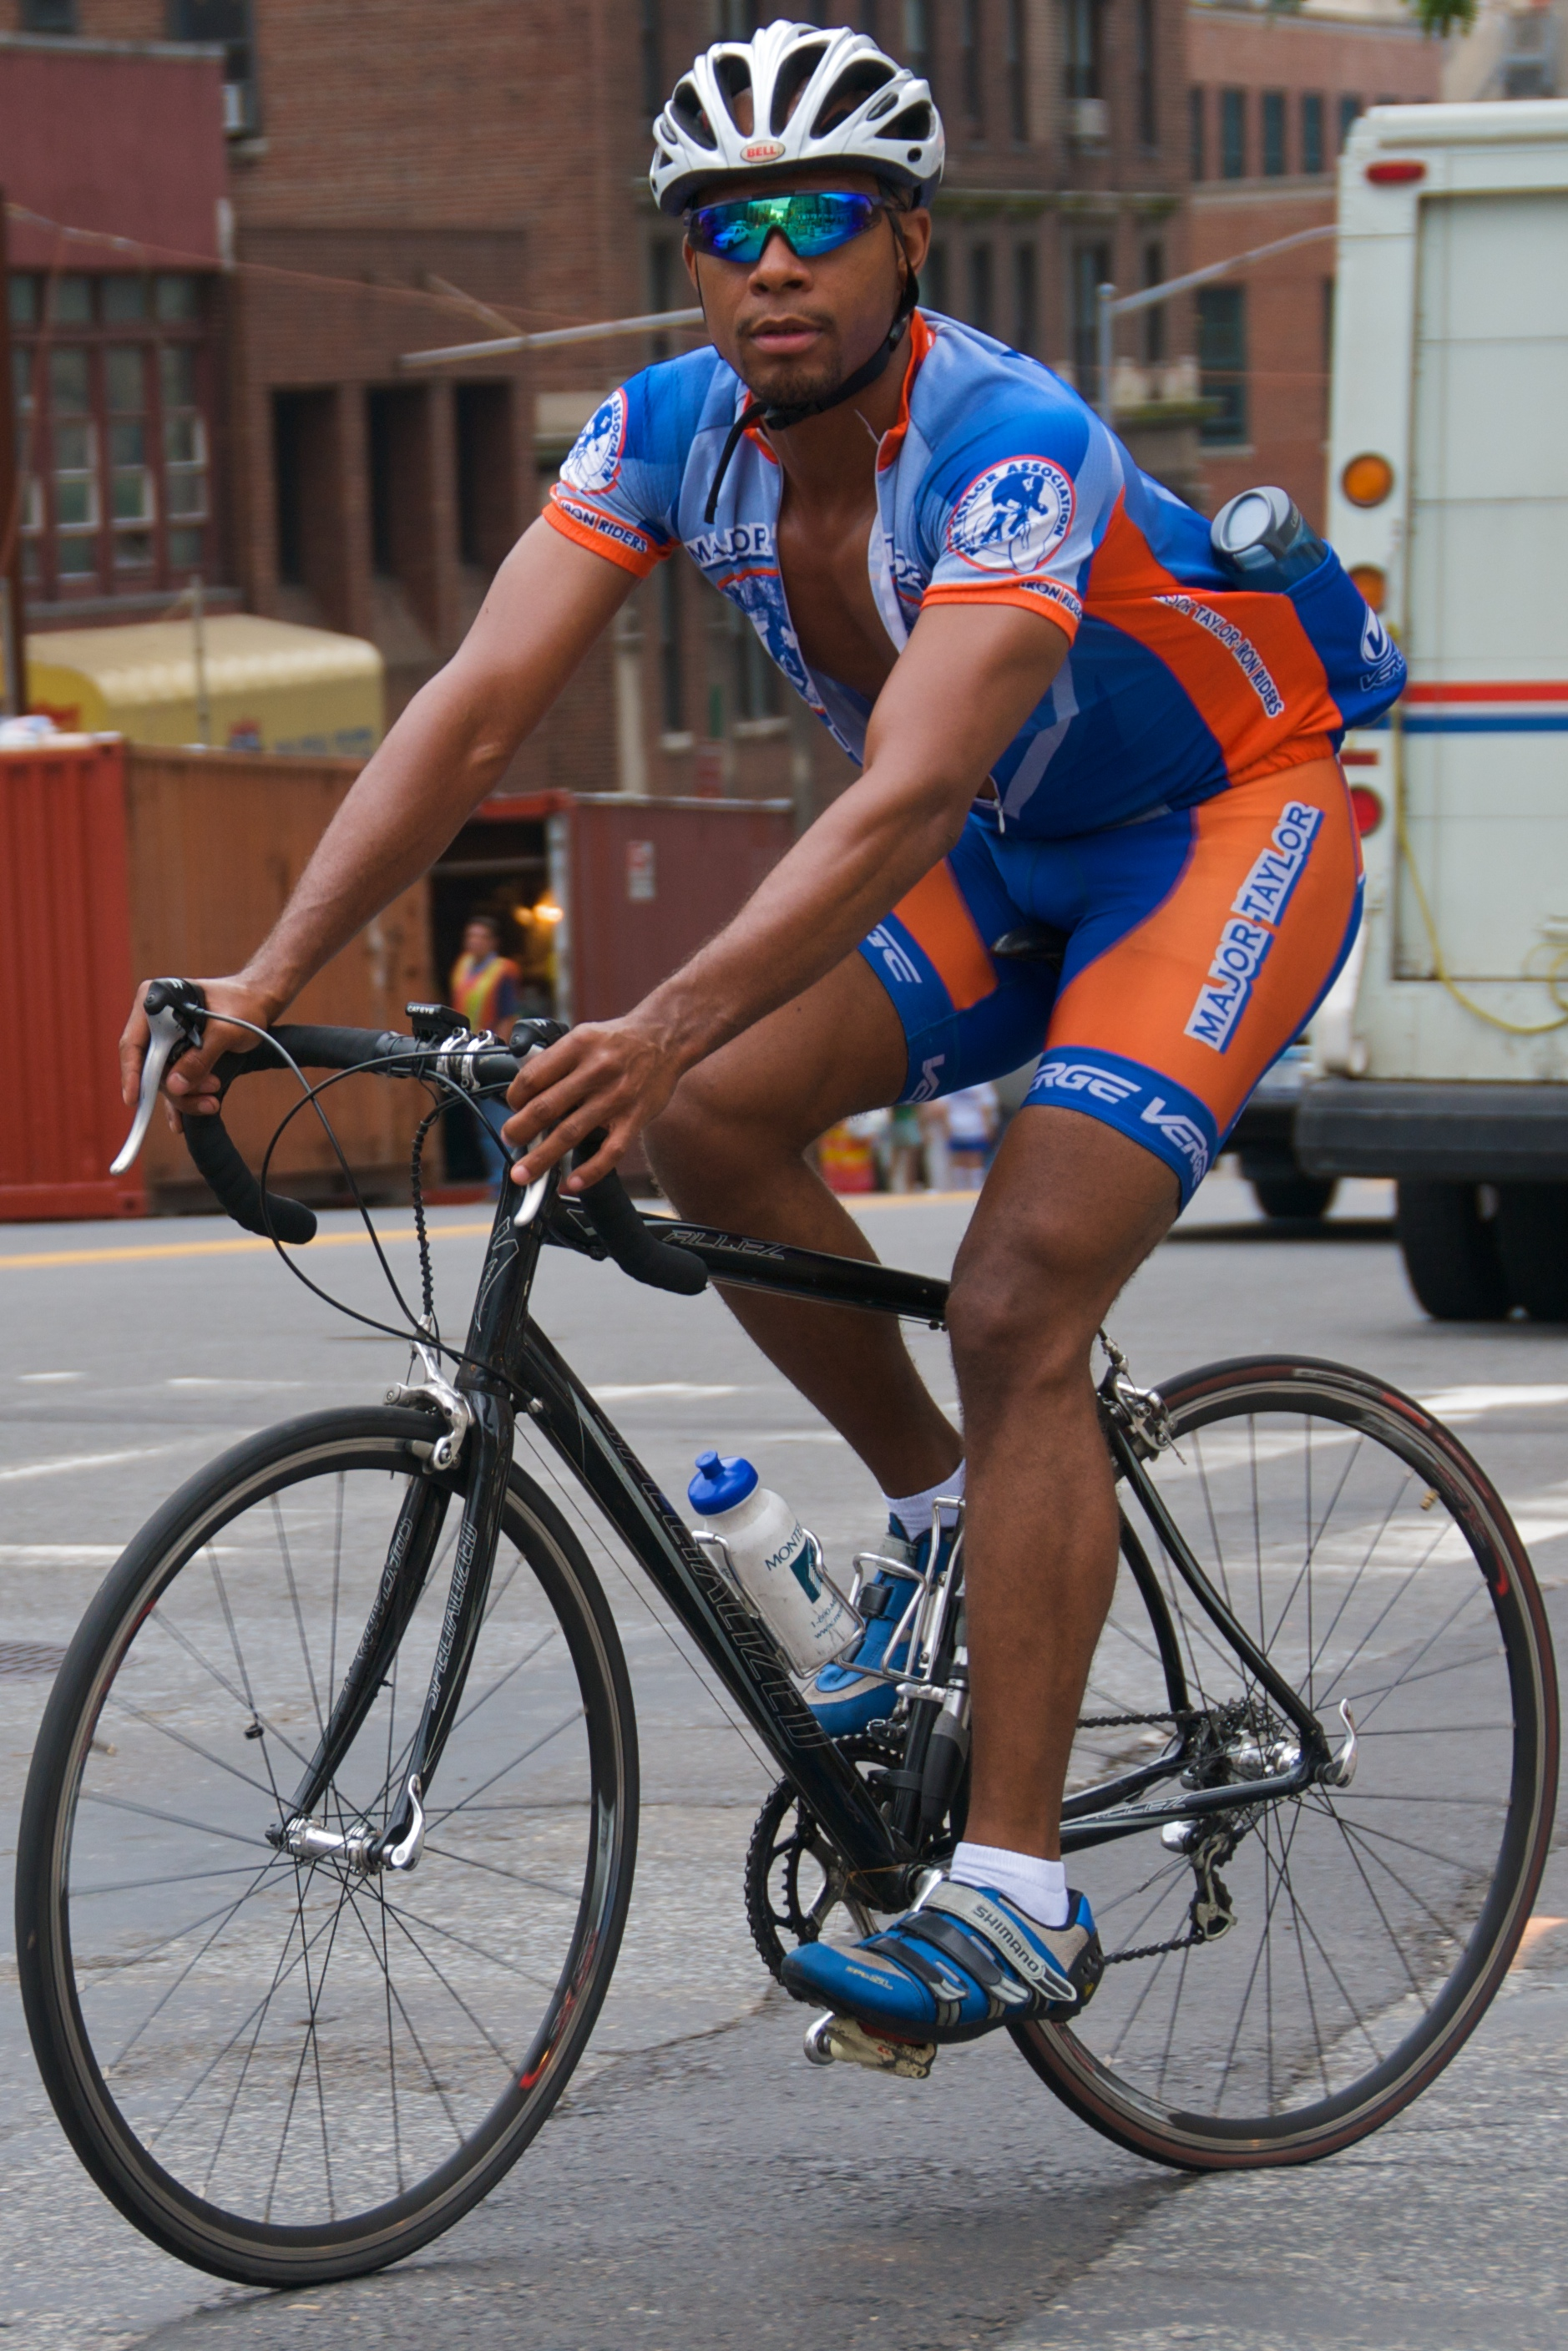bike: (33, 951, 1568, 2303)
person: (123, 17, 1378, 2055)
